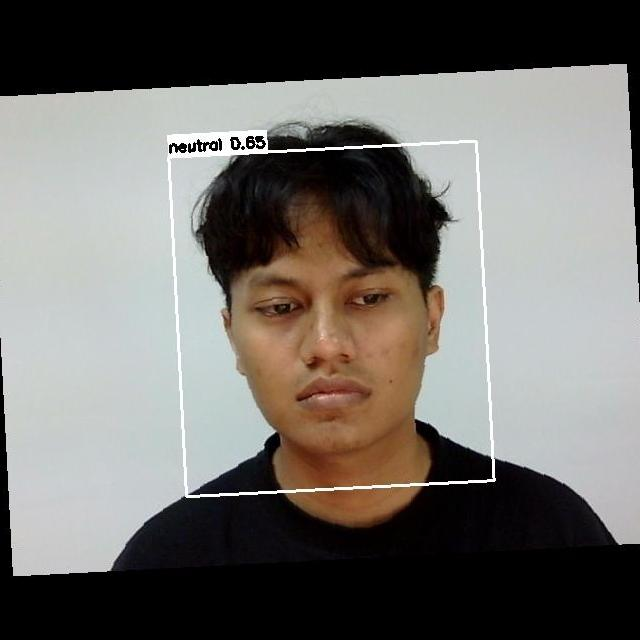Natural: (242, 253, 432, 431)
